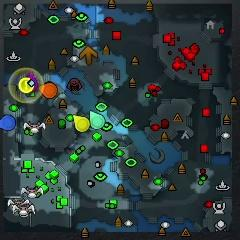Other: (19, 77, 34, 93)
p1: (0, 114, 16, 131)
p2: (89, 110, 105, 130)
p3: (26, 72, 39, 92)
p4: (73, 114, 91, 132)
p5: (39, 82, 58, 99)
x5: (80, 45, 97, 65)
